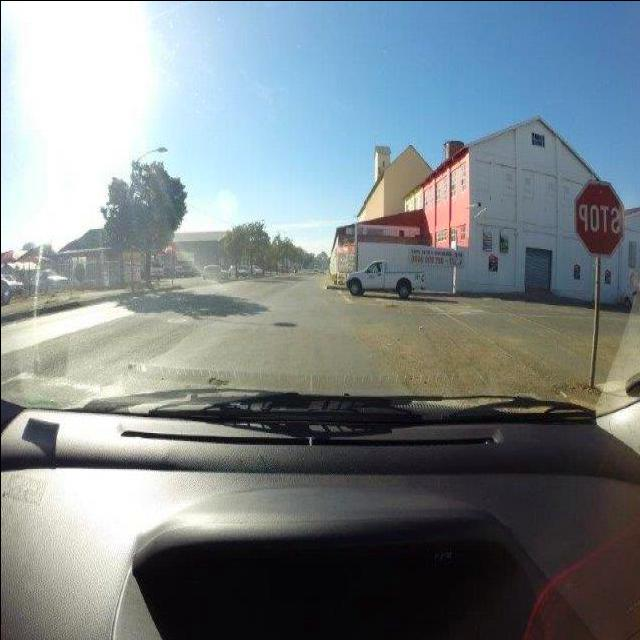lubang: (202, 369, 231, 387)
